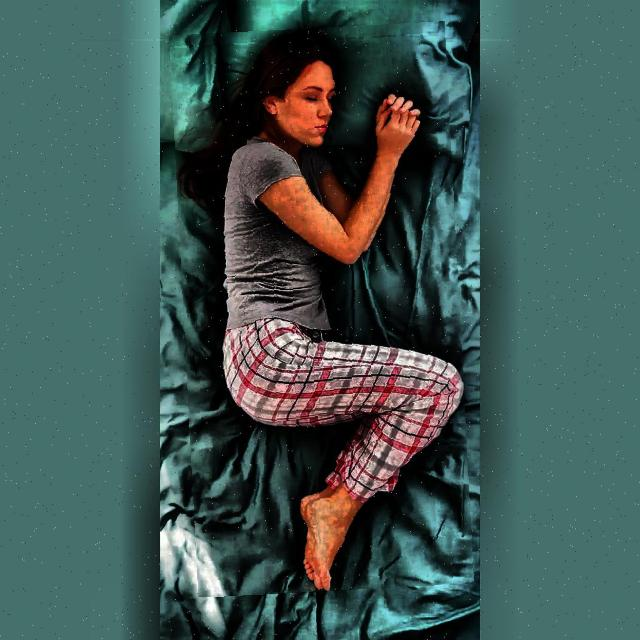Not_Supine: (176, 27, 464, 590)
